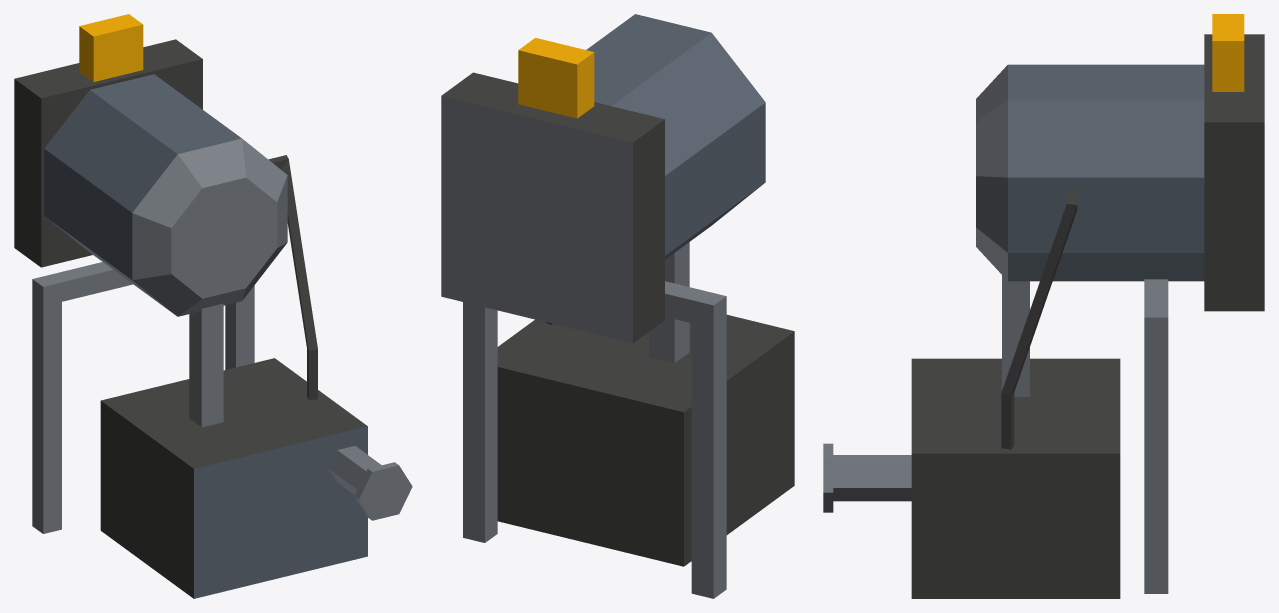
File: vacuum_pump.glb
The picture shows the model from 3 angles, left to right: view 1: azimuth 30°, elevation 25°; view 2: azimuth 150°, elevation 25°; view 3: azimuth 270°, elevation 25°; orthographic projection. The views are drawn at different scales.
Parts seen in each view (by area): view 1: vacuum_pump; view 2: vacuum_pump; view 3: vacuum_pump.
Boxes of the visible parts, box(x1,y1,x2,y2) form: vacuum_pump: box(14, 14, 412, 598); vacuum_pump: box(441, 14, 794, 598); vacuum_pump: box(823, 14, 1264, 598).
Bounding box in the file's own units: 0.7266 × 1.4 × 1.1.
